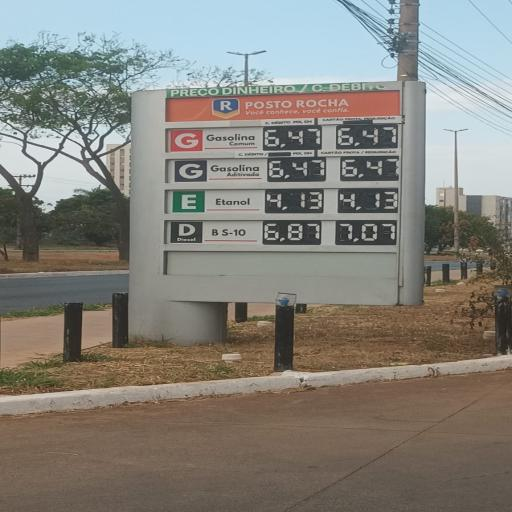ETANOL: (170, 189, 264, 213)
GASOLINA AD: (168, 157, 268, 182)
GASOLINA C: (163, 127, 262, 152)
S10: (166, 220, 263, 244)
placa: (154, 91, 405, 253)
preco: (265, 189, 324, 214), (262, 221, 323, 245), (263, 126, 325, 149), (268, 158, 327, 182)
